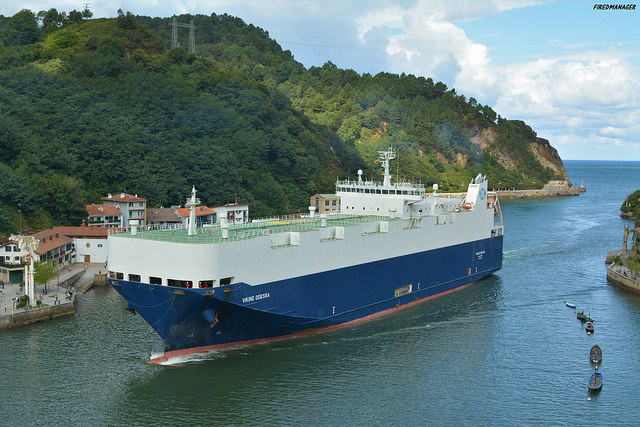PCC: (99, 155, 516, 350)
